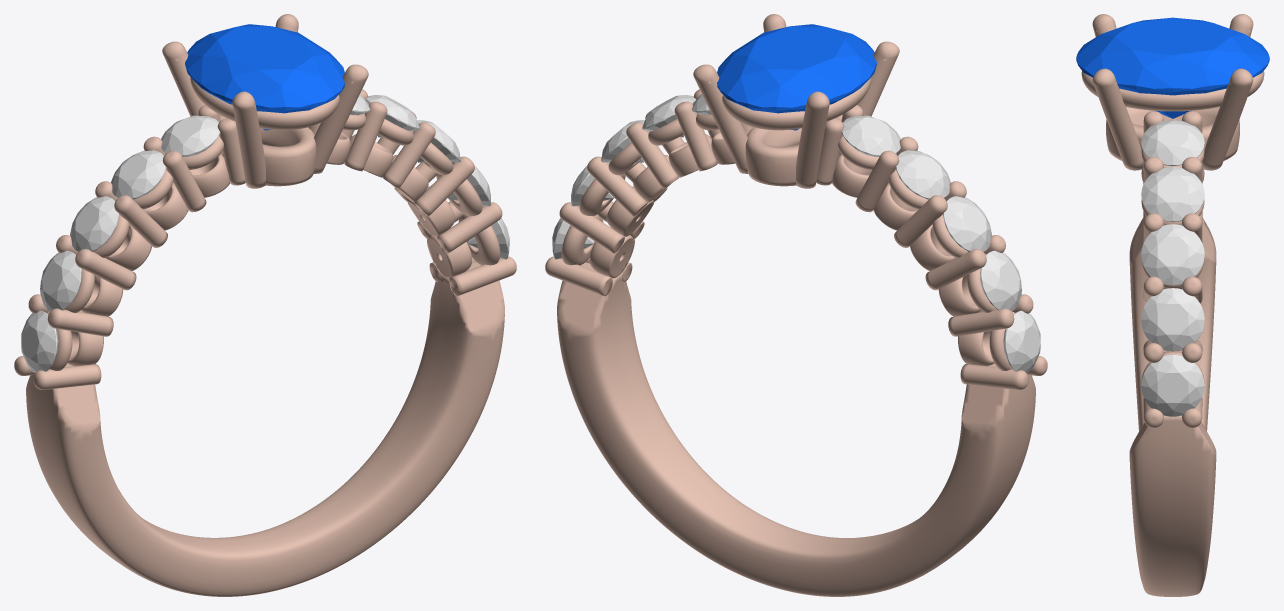
Rendered from bluesapphire-oval-rosegold-4prong-straighttaperedband-11stone.glb.
3 renders of one model, left to right at view 1: azimuth 30°, elevation 25°; view 2: azimuth 150°, elevation 25°; view 3: azimuth 270°, elevation 25°, orthographic.
Parts seen in each view (by area): view 1: metal, stone, side.002, side.003, side.001, side.004, side, side.008, side.007; view 2: metal, stone, side.002, side.003, side.001, side.004, side, side.008, side.007; view 3: metal, stone, side.006, side.005, side.007, side.008, side.009.
Boxes of the visible parts, left/top/right/bottom form: metal: left=14, top=14, right=516, bottom=596; stone: left=185, top=24, right=344, bottom=130; side.002: left=70, top=196, right=118, bottom=251; side.003: left=111, top=150, right=166, bottom=199; side.001: left=40, top=250, right=81, bottom=311; side.004: left=161, top=115, right=220, bottom=156; side: left=21, top=310, right=58, bottom=372; side.008: left=365, top=95, right=419, bottom=137; side.007: left=417, top=120, right=460, bottom=162; metal: left=545, top=14, right=1047, bottom=596; stone: left=717, top=24, right=876, bottom=130; side.002: left=943, top=196, right=991, bottom=251; side.003: left=895, top=150, right=950, bottom=199; side.001: left=980, top=250, right=1021, bottom=311; side.004: left=841, top=115, right=900, bottom=156; side: left=1003, top=310, right=1040, bottom=372; side.008: left=642, top=95, right=696, bottom=137; side.007: left=601, top=120, right=644, bottom=162; metal: left=1081, top=14, right=1264, bottom=596; stone: left=1076, top=17, right=1269, bottom=118; side.006: left=1141, top=288, right=1204, bottom=351; side.005: left=1141, top=354, right=1204, bottom=416; side.007: left=1141, top=224, right=1204, bottom=285; side.008: left=1141, top=166, right=1204, bottom=222; side.009: left=1141, top=120, right=1204, bottom=166.
Size of the model in its own units: 21.88 by 23.41 by 7.64.
